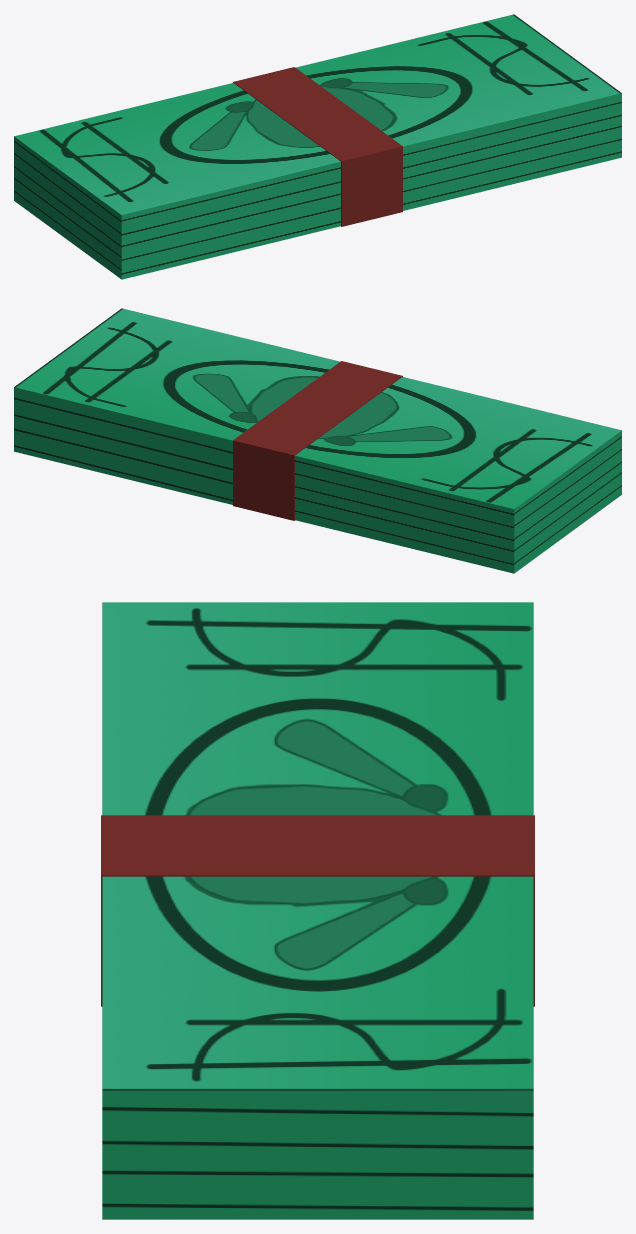
File: money stack (plain v2).fbx
3 views of the same model, one above another, from view 1: azimuth 30°, elevation 25°; view 2: azimuth 150°, elevation 25°; view 3: azimuth 270°, elevation 25° (orthographic). The views are drawn at different scales.
Parts seen in each view (by area): view 1: Plane; view 2: Plane; view 3: Plane.
Boxes of the visible parts, left/top/right/bottom form: Plane: left=14, top=14, right=621, bottom=279; Plane: left=14, top=308, right=621, bottom=573; Plane: left=101, top=602, right=534, bottom=1219.
Bounding box in the file's own units: 605 × 75.84 × 227.
